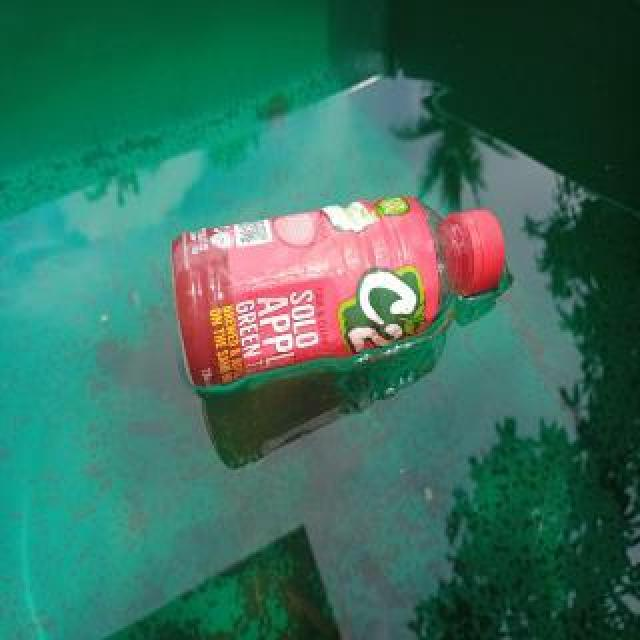bottle: (165, 192, 511, 394)
